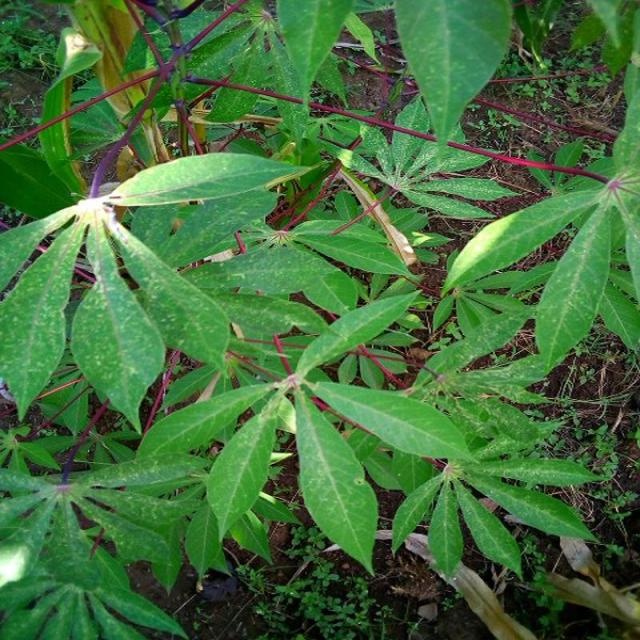cassava leaf: (0, 1, 638, 635), (393, 0, 513, 151), (292, 383, 378, 577)
